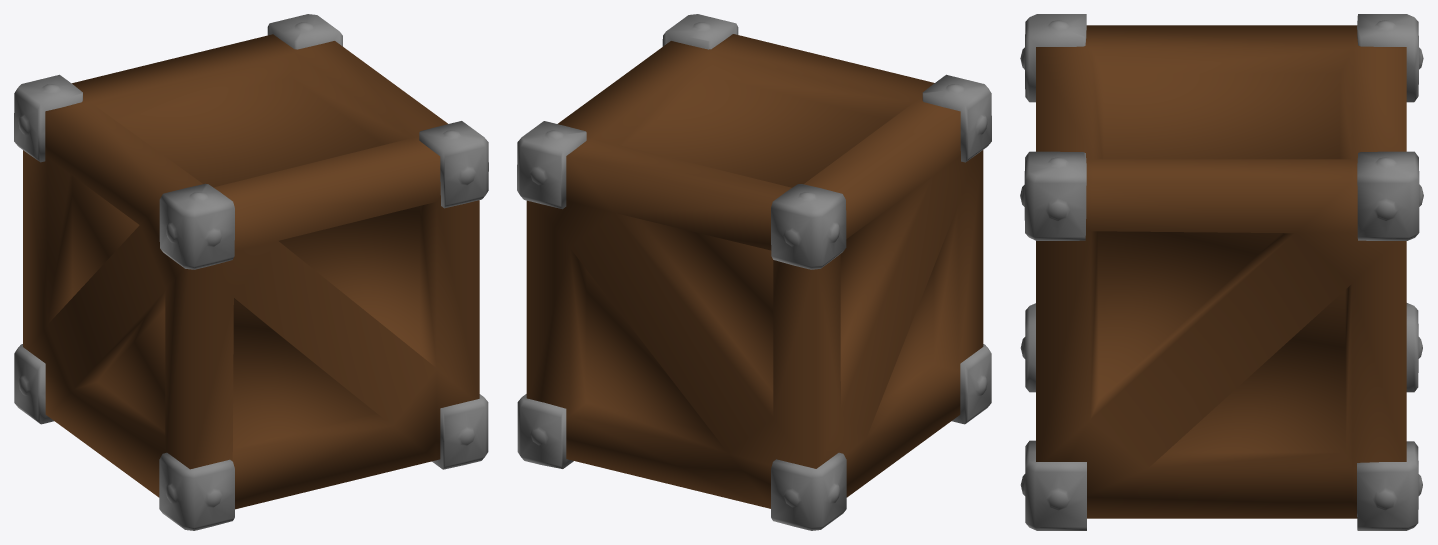
File: Kutija low.fbx
3 views of the same model, side by side, from view 1: azimuth 30°, elevation 25°; view 2: azimuth 150°, elevation 25°; view 3: azimuth 270°, elevation 25° (orthographic). The views are drawn at different scales.
Visible parts, largest first — view 1: Kutija_low, Metal_low; view 2: Kutija_low, Metal_low; view 3: Kutija_low, Metal_low.
Boxes of the visible parts, left/top/right/bottom form: Kutija_low: left=23, top=34, right=479, bottom=509; Metal_low: left=14, top=14, right=488, bottom=530; Kutija_low: left=526, top=34, right=983, bottom=508; Metal_low: left=517, top=14, right=991, bottom=530; Kutija_low: left=1036, top=25, right=1406, bottom=518; Metal_low: left=1020, top=14, right=1423, bottom=530.
Bounding box in the file's own units: 215 × 214 × 216.
